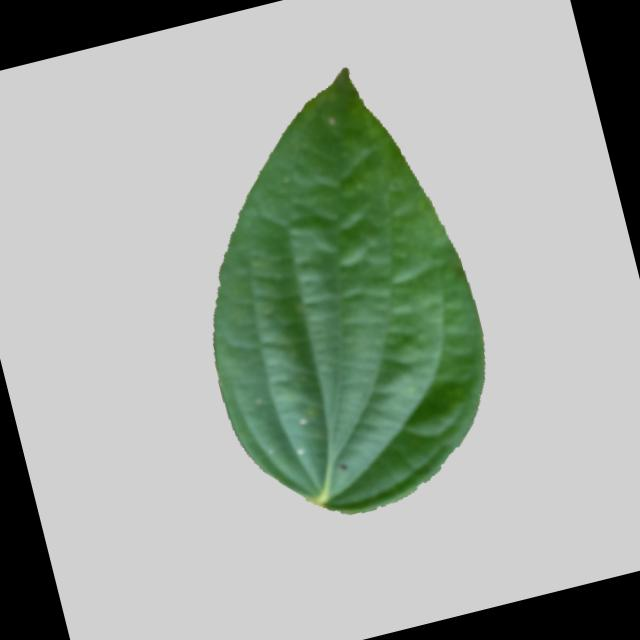healthy: (135, 36, 524, 550)
